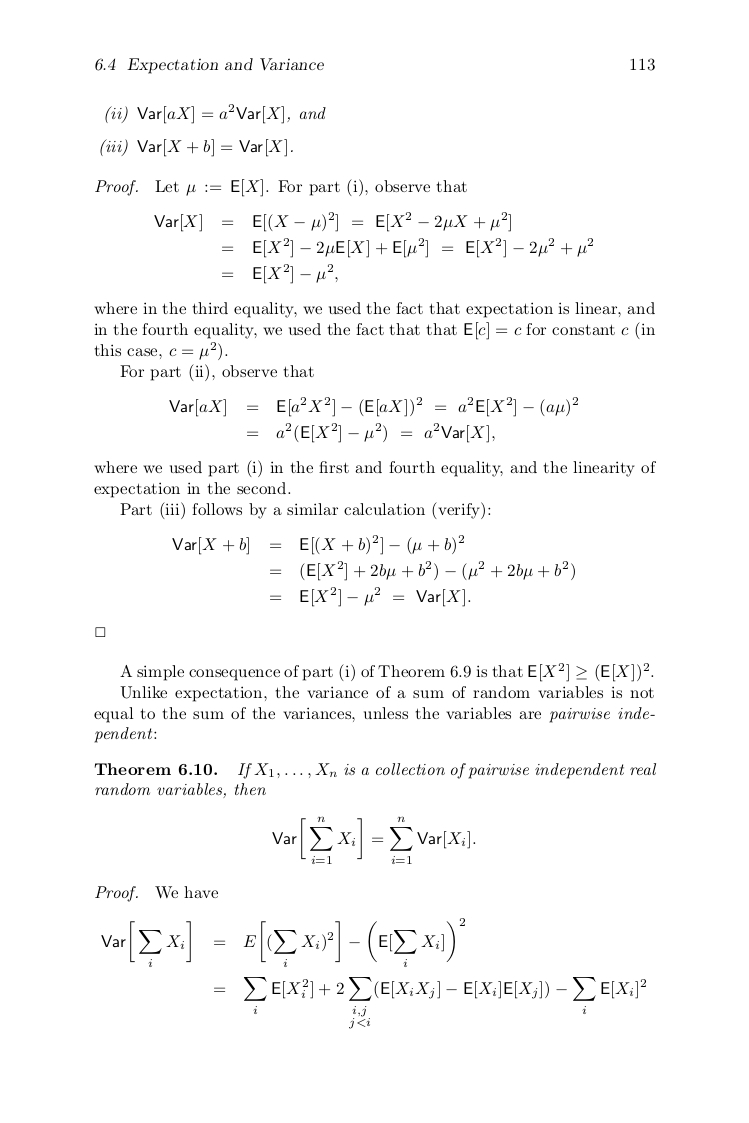formula: (214, 977, 645, 1028), (101, 917, 464, 967), (272, 815, 475, 864), (169, 395, 577, 417), (222, 237, 592, 258), (154, 211, 510, 232), (270, 560, 574, 581), (172, 534, 463, 555), (247, 422, 494, 443), (105, 103, 325, 124), (270, 585, 470, 607), (100, 138, 292, 157), (222, 262, 337, 284)
